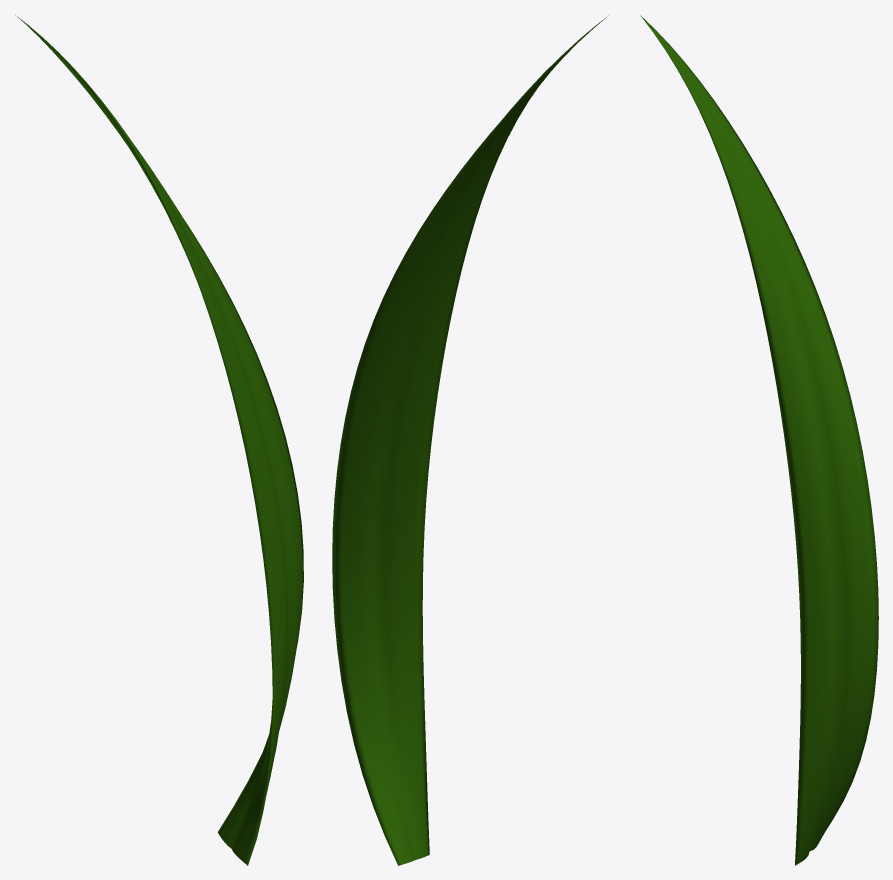
The picture shows the model from 3 angles, left to right: view 1: azimuth 30°, elevation 25°; view 2: azimuth 150°, elevation 25°; view 3: azimuth 330°, elevation 25°; orthographic projection. The views are drawn at different scales.
Parts seen in each view (by area): view 1: ТраекторияNurbs.021; view 2: ТраекторияNurbs.021; view 3: ТраекторияNurbs.021.
Part boxes in pixels (box(x1,y1,x2,y2)): ТраекторияNurbs.021: box(15, 15, 303, 865); ТраекторияNurbs.021: box(332, 15, 608, 865); ТраекторияNurbs.021: box(640, 15, 878, 865).
Size of the model in its own units: 68.55 by 207 by 22.86.
